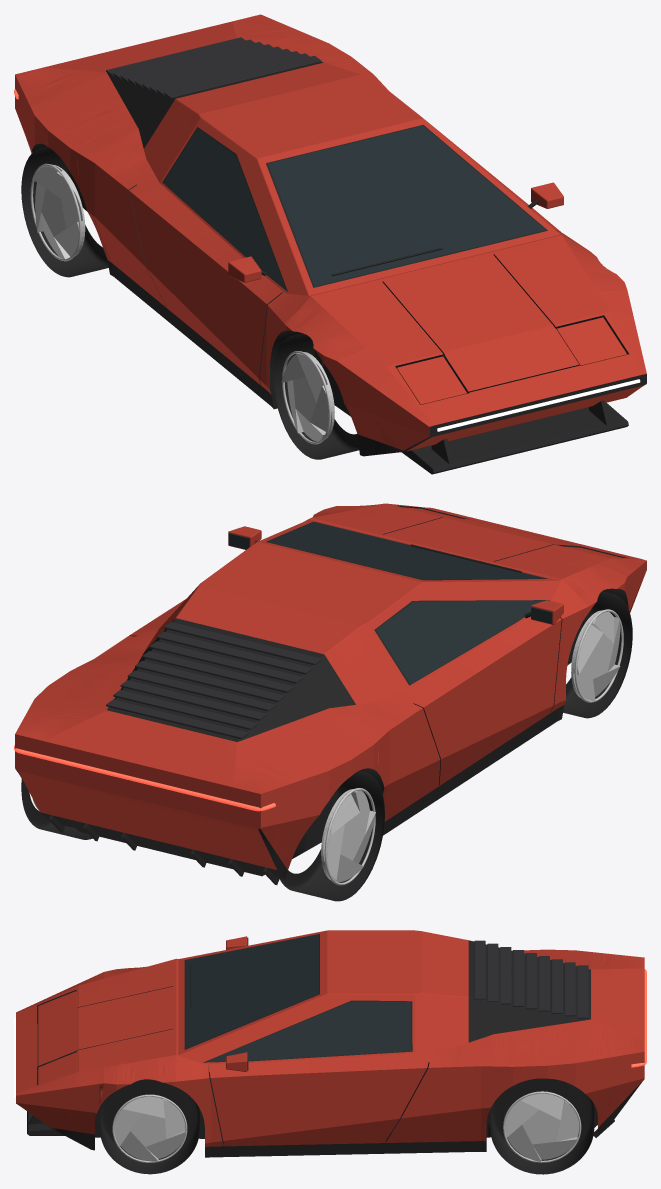
File: wedge.glb
3 views of the same model, one above another, from view 1: azimuth 30°, elevation 25°; view 2: azimuth 150°, elevation 25°; view 3: azimuth 270°, elevation 25° (orthographic). The views are drawn at different scales.
Parts seen in each view (by area): view 1: Body, Glass_Front, Glass_R, Wheel_RR, Loose_Louvres, Wheel_FR, Loose_Chin, Light_F1, Loose_MirrorL, Loose_MirrorR; view 2: Body, Loose_Louvres, Wheel_RR, Glass_R, Glass_Front, Wheel_FR, Light_R1, Wheel_RL, Loose_MirrorL, Loose_MirrorR; view 3: Body, Glass_Front, Wheel_RL, Glass_L, Wheel_FL, Loose_Louvres, Loose_Chin, Loose_MirrorR.
Boxes of the visible parts, x1,y1,x2,y2 form: Body: (15, 14, 646, 456); Glass_Front: (268, 126, 545, 286); Glass_R: (163, 128, 286, 290); Wheel_RR: (21, 146, 108, 277); Loose_Louvres: (106, 37, 321, 98); Wheel_FR: (273, 333, 359, 459); Loose_Chin: (401, 400, 628, 474); Light_F1: (437, 379, 640, 431); Loose_MirrorL: (228, 256, 266, 282); Loose_MirrorR: (527, 182, 563, 208); Body: (15, 503, 646, 879); Loose_Louvres: (106, 622, 321, 738); Wheel_RR: (279, 770, 384, 901); Glass_R: (376, 600, 545, 684); Glass_Front: (268, 521, 545, 579); Wheel_FR: (563, 591, 632, 718); Light_R1: (14, 745, 275, 811); Wheel_RL: (21, 779, 92, 839); Loose_MirrorL: (524, 600, 563, 624); Loose_MirrorR: (228, 526, 261, 549); Body: (16, 930, 644, 1157); Glass_Front: (185, 934, 318, 1048); Wheel_RL: (490, 1082, 594, 1174); Glass_L: (205, 1001, 410, 1061); Wheel_FL: (100, 1079, 199, 1174); Loose_Louvres: (474, 940, 588, 1018); Loose_Chin: (27, 1111, 64, 1135); Loose_MirrorR: (226, 1052, 248, 1071).
Size of the model in its own units: 2.07 by 1.2 by 4.43.
